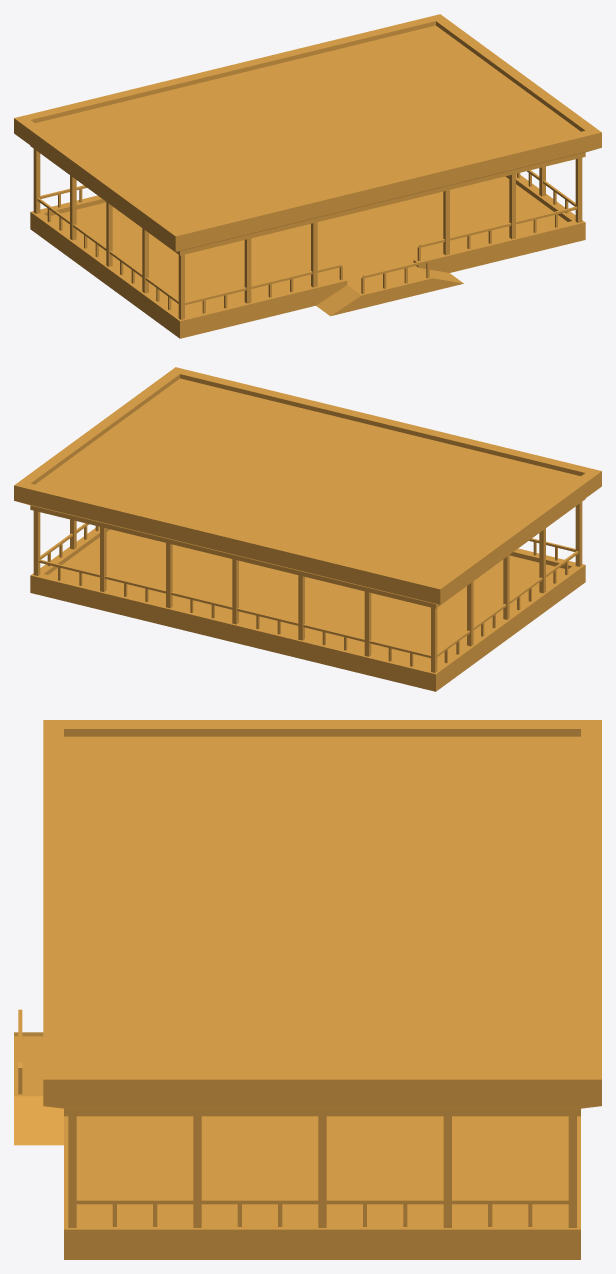
Rendered from bumper-cars-booth.glb.
3 renders of one model, top to bottom at view 1: azimuth 30°, elevation 25°; view 2: azimuth 150°, elevation 25°; view 3: azimuth 270°, elevation 25°, orthographic. The views are drawn at different scales.
Visible parts, largest first — view 1: bumper-cars-booth; view 2: bumper-cars-booth; view 3: bumper-cars-booth.
Boxes of the visible parts, left/top/right/bottom form: bumper-cars-booth: left=14, top=14, right=601, bottom=338; bumper-cars-booth: left=14, top=367, right=601, bottom=691; bumper-cars-booth: left=14, top=720, right=601, bottom=1259.
Size of the model in its own units: 20.4 by 5 by 14.1.
